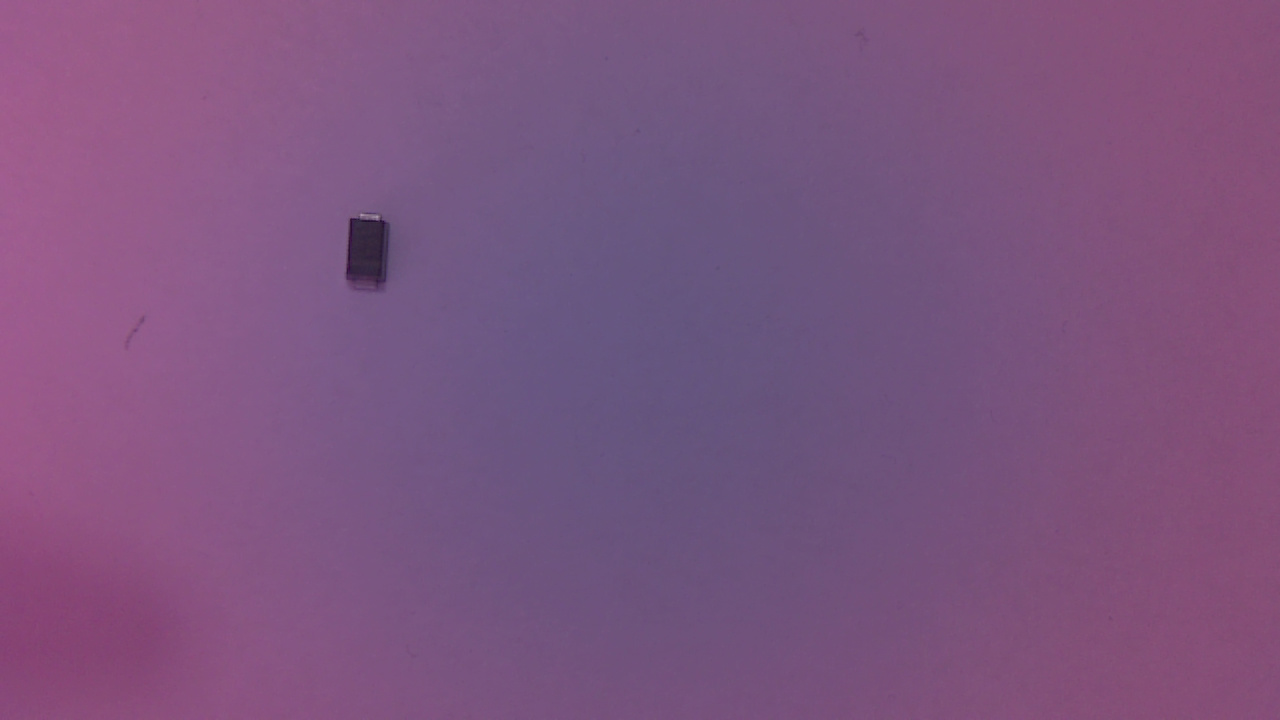Diode: (346, 214, 400, 299)
